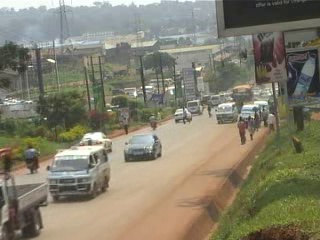Car: (121, 131, 164, 163), (76, 128, 115, 154), (172, 105, 192, 125)
Motorcycle: (22, 150, 42, 176), (148, 116, 157, 131)
